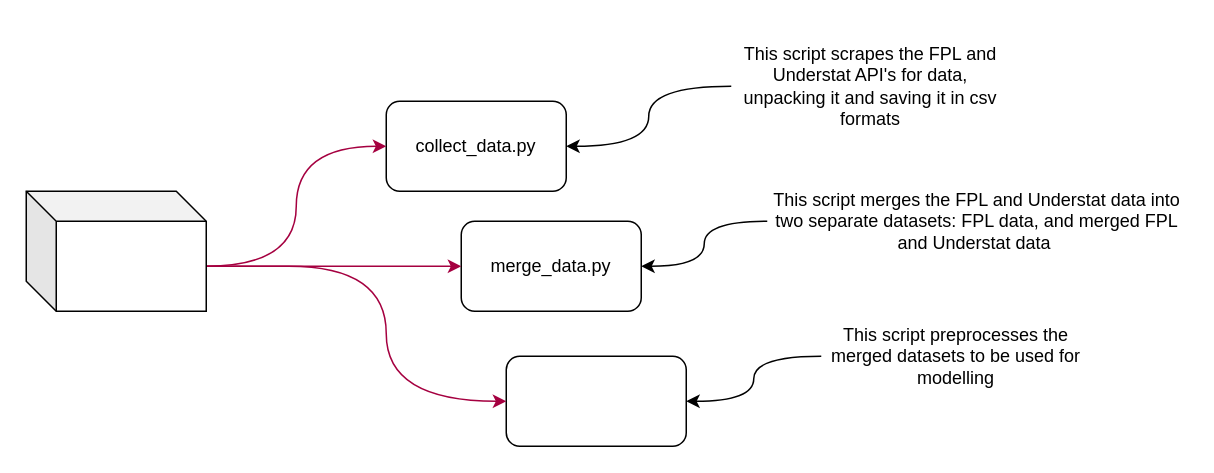
This 1214x473 diagram has some shape labels left out. The shapes that lost their labels are listed below. From the top down, each one's box as (x1, y1, x2, y2) in pixels, then its label:
(25, 190, 206, 311): main.py
(505, 355, 686, 446): clean_data.py
